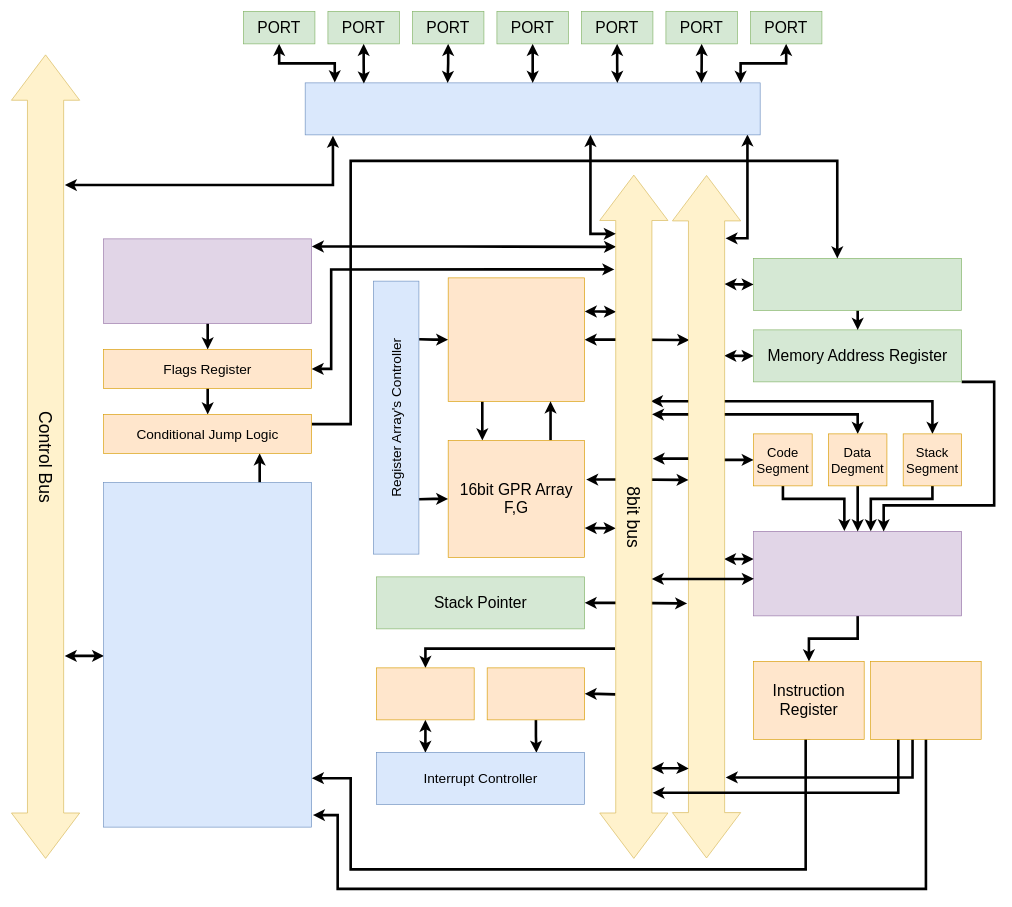
Some shapes in this 1012 by 907 pixel diagram are drawn without their labels. Each missing label, with the centre of its shape:
16bit bus: (x=706, y=516)
8bit GPR Array A,C,D,E: (x=516, y=339)
ALU: (x=207, y=280)
Control Unit: (x=207, y=654)
Input / Output Controller (I/O): (x=532, y=108)
Interrupt Mask Register: (x=536, y=693)
Memory: (x=857, y=573)
Operand Register: (x=925, y=700)
Program Counter: (x=857, y=284)
Timer Interrupt Register: (x=425, y=693)
